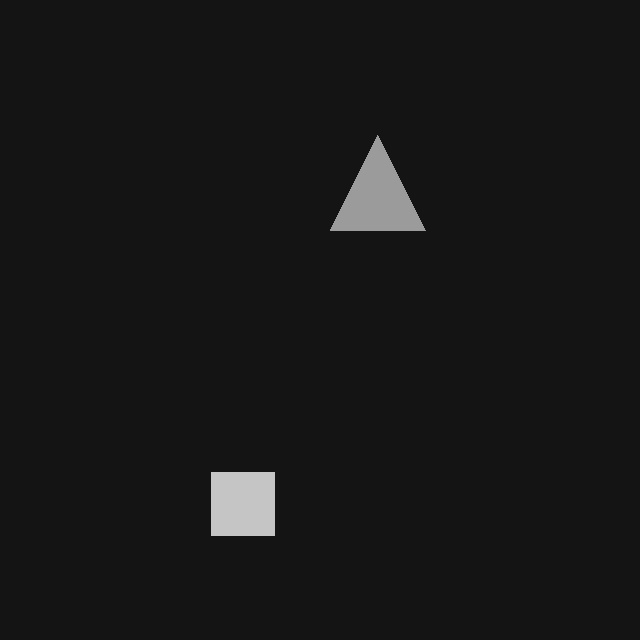square: (211, 472, 274, 535)
triangle: (330, 135, 425, 230)
